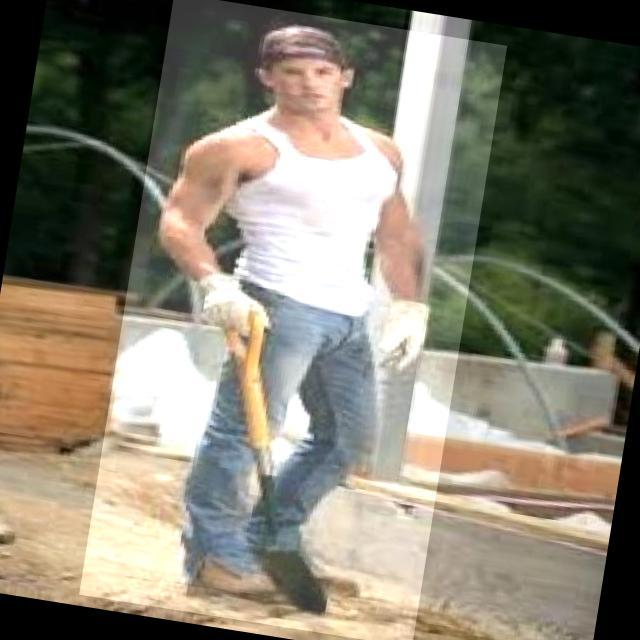Gloves: (364, 297, 446, 386), (194, 275, 277, 347)
Person: (143, 13, 461, 625)
Safety Boot: (180, 540, 282, 603)
no-helmet: (255, 23, 350, 66)
no-vest: (219, 109, 404, 325)
